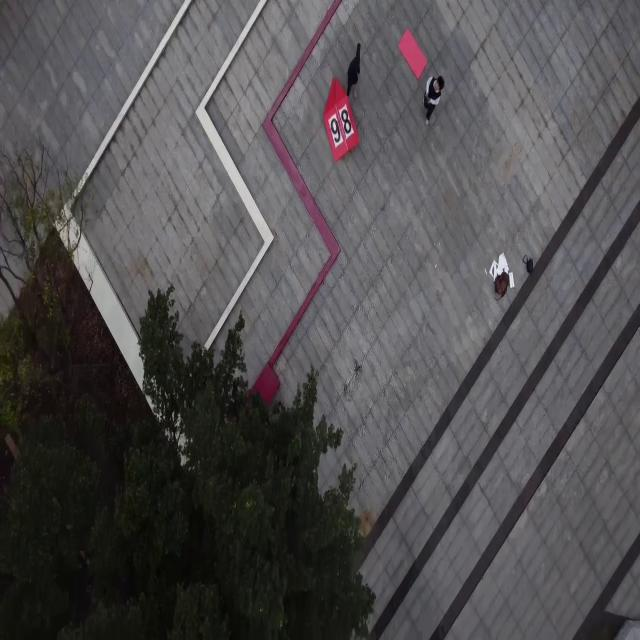-sign-: (322, 76, 360, 164), (398, 27, 428, 80)
